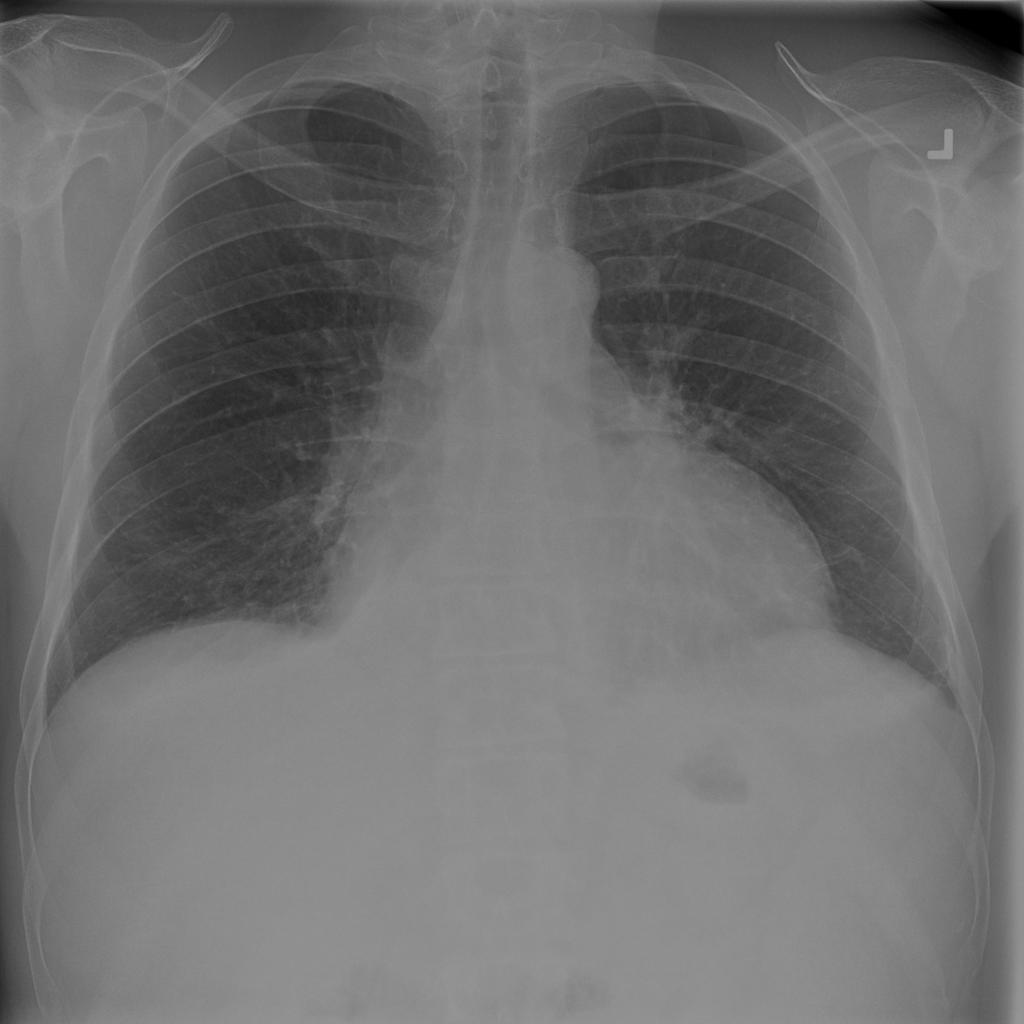Cardiomegaly: (289, 325, 891, 755)
